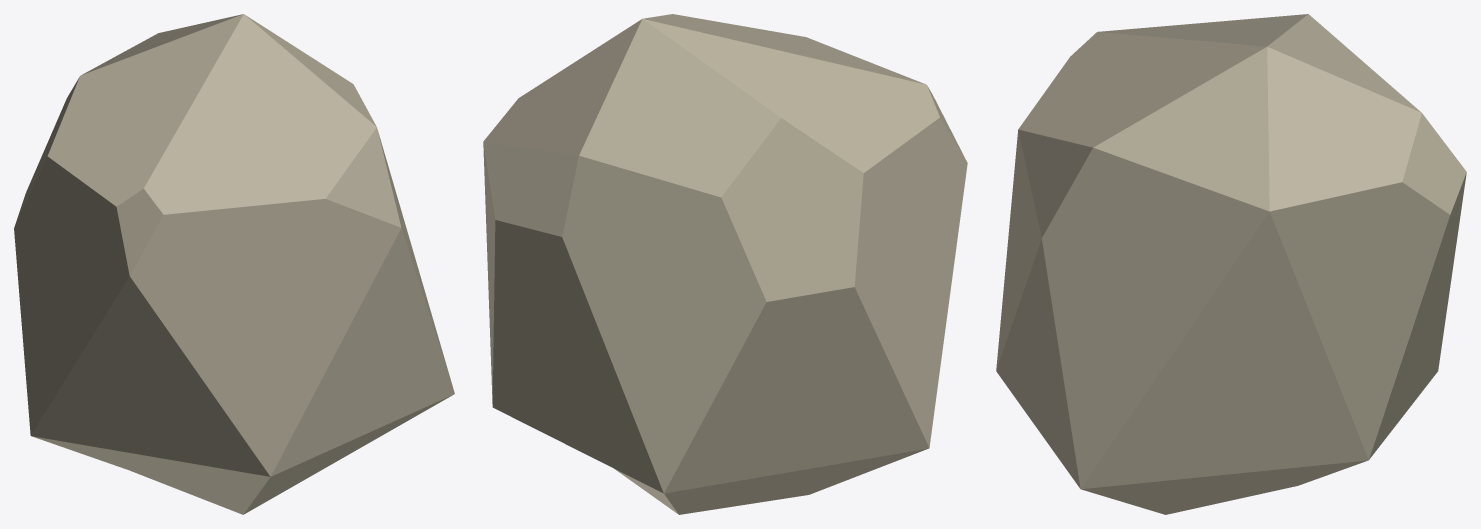
Rendered from STONE #2.fbx.
The picture shows the model from 3 angles, left to right: view 1: azimuth 30°, elevation 25°; view 2: azimuth 150°, elevation 25°; view 3: azimuth 270°, elevation 25°; orthographic projection. The views are drawn at different scales.
Visible parts, largest first — view 1: Icosphere; view 2: Icosphere; view 3: Icosphere.
Boxes of the visible parts, box(x1,y1,x2,y2) form: Icosphere: box(14, 14, 454, 514); Icosphere: box(483, 14, 967, 514); Icosphere: box(996, 14, 1466, 514).
Bounding box in the file's own units: 198 × 230 × 207.
